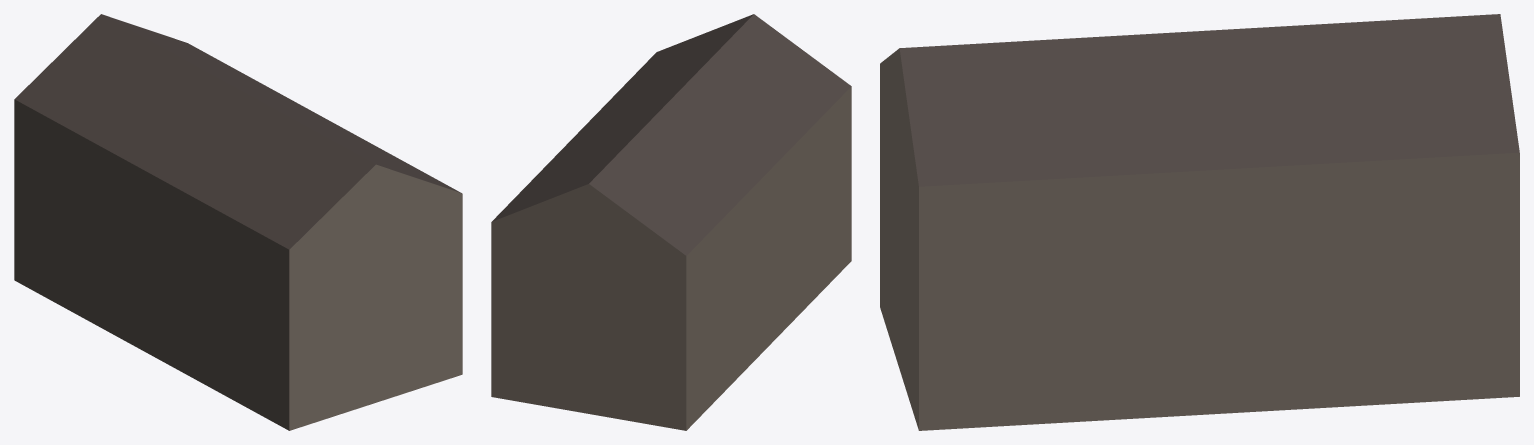
3 renders of one model, left to right at view 1: azimuth 30°, elevation 25°; view 2: azimuth 150°, elevation 25°; view 3: azimuth 270°, elevation 25°, orthographic. The views are drawn at different scales.
Parts seen in each view (by area): view 1: HP-w859467757; view 2: HP-w859467757; view 3: HP-w859467757.
Boxes of the visible parts, <box> form: HP-w859467757: <box>14,14,462,430</box>; HP-w859467757: <box>491,14,851,430</box>; HP-w859467757: <box>880,14,1519,430</box>.
Bounding box in the file's own units: 8.3 × 7.89 × 14.25.
